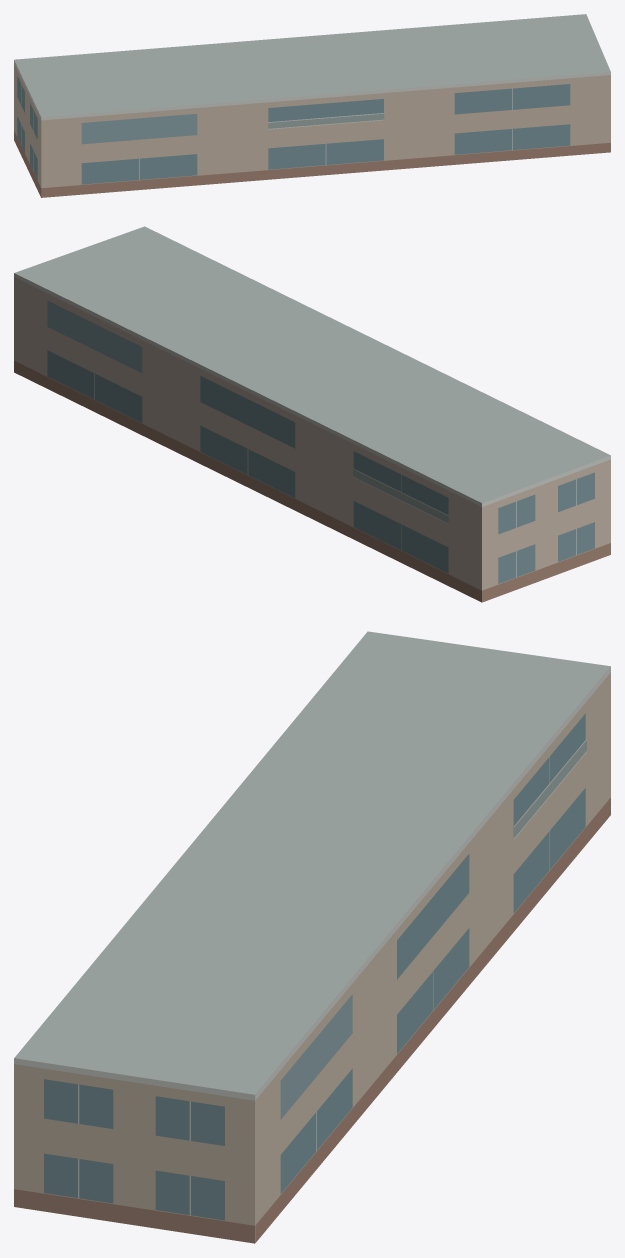
File: survey-upis-32903856.glb
3 views of the same model, one above another, from view 1: azimuth 30°, elevation 25°; view 2: azimuth 150°, elevation 25°; view 3: azimuth 270°, elevation 25° (orthographic). The views are drawn at different scales.
Visible parts, largest first — view 1: survey-upis-32903856.tmp; view 2: survey-upis-32903856.tmp; view 3: survey-upis-32903856.tmp.
Boxes of the visible parts, x1,y1,x2,y2 form: survey-upis-32903856.tmp: [14, 14, 610, 197]; survey-upis-32903856.tmp: [14, 226, 610, 602]; survey-upis-32903856.tmp: [14, 631, 610, 1243].
Bounding box in the file's own units: 40.77 × 6.1 × 22.19.
